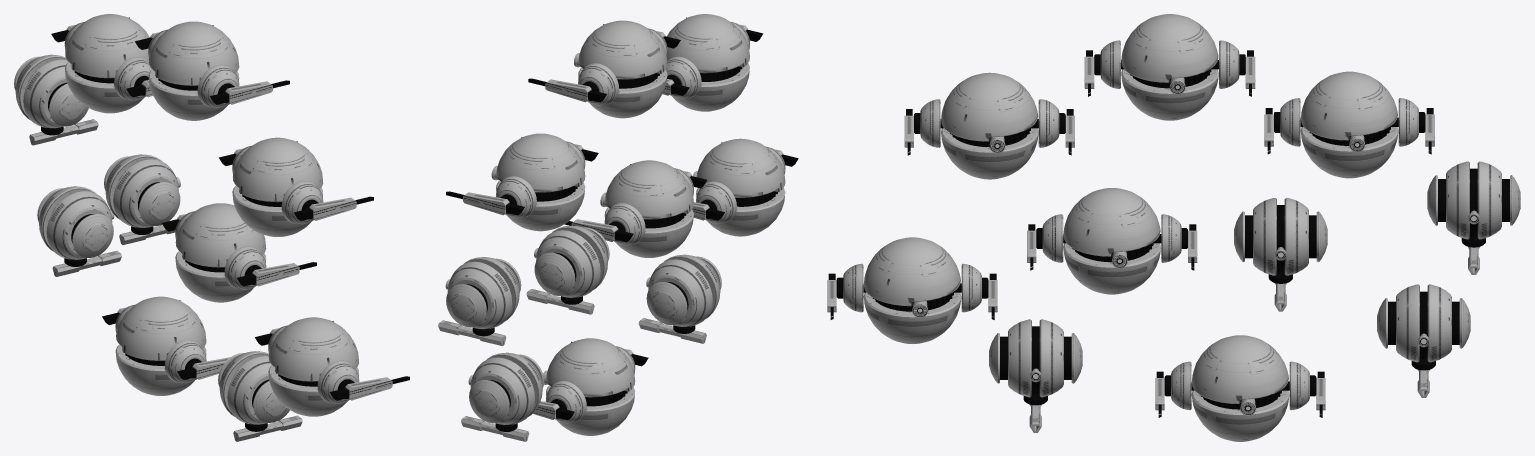
Rendered from Robots.fbx.
3 renders of one model, left to right at view 1: azimuth 30°, elevation 25°; view 2: azimuth 150°, elevation 25°; view 3: azimuth 270°, elevation 25°, orthographic. The views are drawn at different scales.
Visible parts, largest first — view 1: Bot-1.002, Bot-1.003, Bot-1.001, Bot-1, Bot-1.004, Bot-1.005, Bot-2.001, Bot-2, Bot-2.002, Bot-2.003; view 2: Bot-1.002, Bot-1.005, Bot-1, Bot-1.004, Bot-1.003, Bot-1.001, Bot-2.001, Bot-2.002, Bot-2, Bot-2.003; view 3: Bot-1.003, Bot-1.002, Bot-1.004, Bot-1.005, Bot-1, Bot-1.001, Bot-2.001, Bot-2.003, Bot-2, Bot-2.002.
Part boxes in pixels (left/top/right/bottom): Bot-1.002: left=135, top=21, right=289, bottom=120; Bot-1.003: left=255, top=317, right=409, bottom=416; Bot-1.001: left=219, top=137, right=373, bottom=236; Bot-1: left=162, top=203, right=316, bottom=302; Bot-1.004: left=102, top=296, right=230, bottom=395; Bot-1.005: left=51, top=14, right=152, bottom=113; Bot-2.001: left=37, top=186, right=121, bottom=276; Bot-2: left=104, top=154, right=180, bottom=244; Bot-2.002: left=14, top=54, right=98, bottom=145; Bot-2.003: left=218, top=351, right=302, bottom=441; Bot-1.002: left=528, top=20, right=680, bottom=118; Bot-1.005: left=446, top=133, right=598, bottom=231; Bot-1: left=564, top=160, right=706, bottom=257; Bot-1.004: left=532, top=338, right=648, bottom=435; Bot-1.003: left=692, top=138, right=798, bottom=236; Bot-1.001: left=662, top=14, right=763, bottom=111; Bot-2.001: left=461, top=352, right=544, bottom=441; Bot-2.002: left=438, top=257, right=521, bottom=345; Bot-2: left=526, top=225, right=609, bottom=314; Bot-2.003: left=638, top=254, right=721, bottom=343; Bot-1.003: left=827, top=237, right=997, bottom=343; Bot-1.002: left=1084, top=14, right=1255, bottom=120; Bot-1.004: left=1155, top=335, right=1325, bottom=441; Bot-1.005: left=1264, top=71, right=1434, bottom=178; Bot-1: left=1027, top=188, right=1197, bottom=294; Bot-1.001: left=904, top=72, right=1074, bottom=179; Bot-2.001: left=1377, top=284, right=1470, bottom=397; Bot-2.003: left=989, top=319, right=1082, bottom=432; Bot-2: left=1234, top=198, right=1327, bottom=311; Bot-2.002: left=1427, top=161, right=1520, bottom=274.
Size of the model in its own units: 859 by 3288 by 4933.
3 materials, 1 textured.
